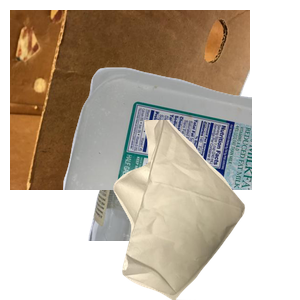cardboard: (10, 10, 250, 190)
glass: (86, 120, 277, 300)
plastic: (60, 65, 300, 245)
trash: (111, 120, 300, 300)
